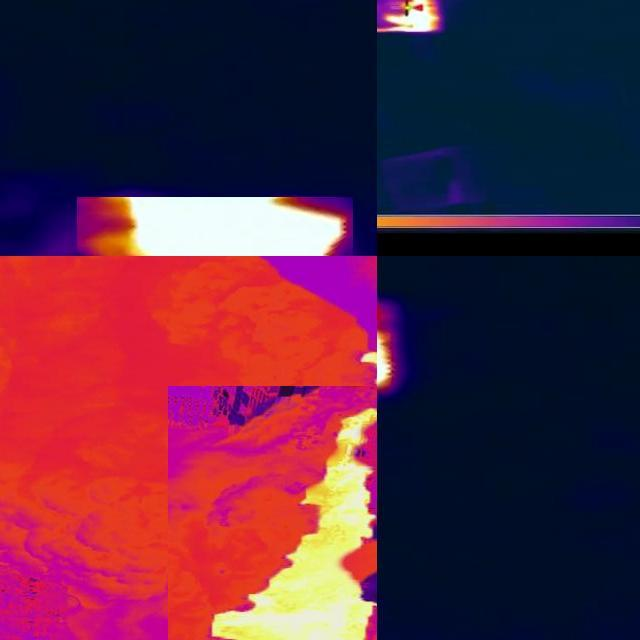fire: (209, 409, 378, 640), (77, 198, 353, 257), (360, 312, 400, 388), (378, 1, 446, 34)
